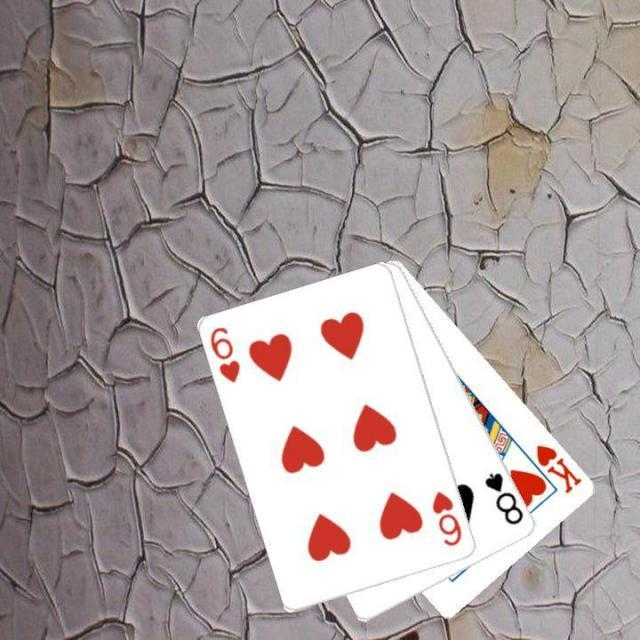6H: (206, 323, 243, 385), (428, 487, 464, 549)
8S: (481, 468, 526, 528)
KH: (532, 441, 584, 496)
